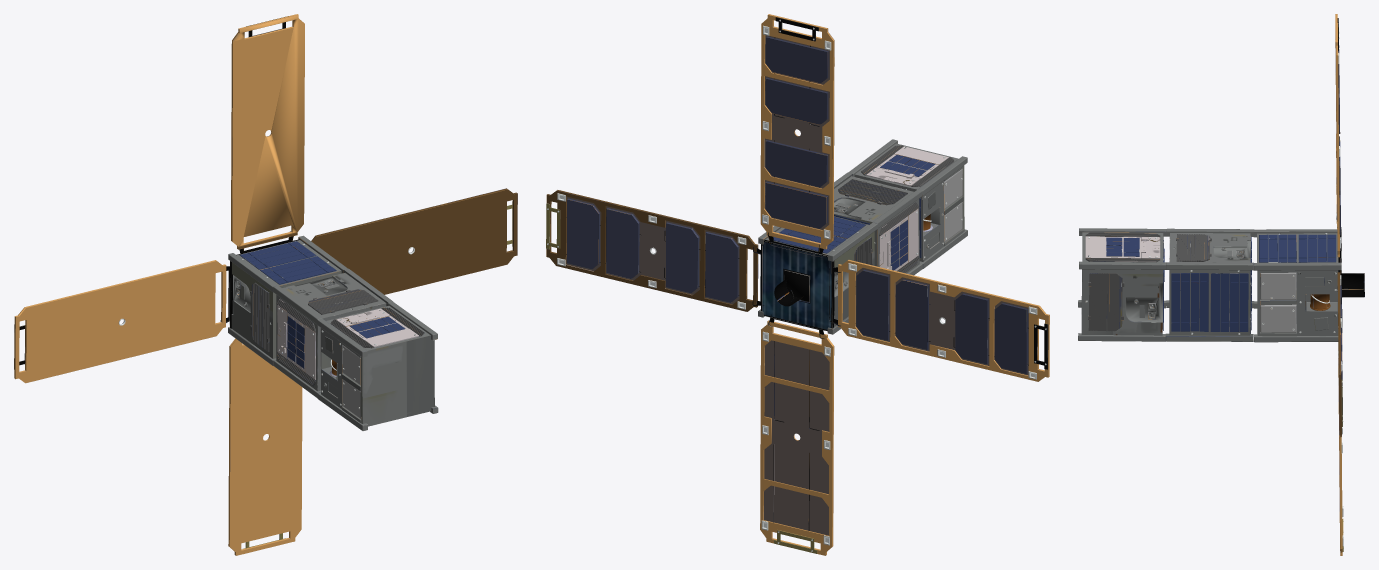
The picture shows the model from 3 angles, left to right: view 1: azimuth 30°, elevation 25°; view 2: azimuth 150°, elevation 25°; view 3: azimuth 270°, elevation 25°; orthographic projection. The views are drawn at different scales.
Visible parts, largest first — view 1: Cubesat; view 2: Cubesat; view 3: Cubesat.
Part boxes in pixels (<box>): Cubesat: <box>14,14,517,555</box>; Cubesat: <box>546,14,1049,555</box>; Cubesat: <box>1078,14,1364,555</box>.
Size of the model in its own units: 420 by 421 by 213.
Materials: 1 (1 with a texture image).
